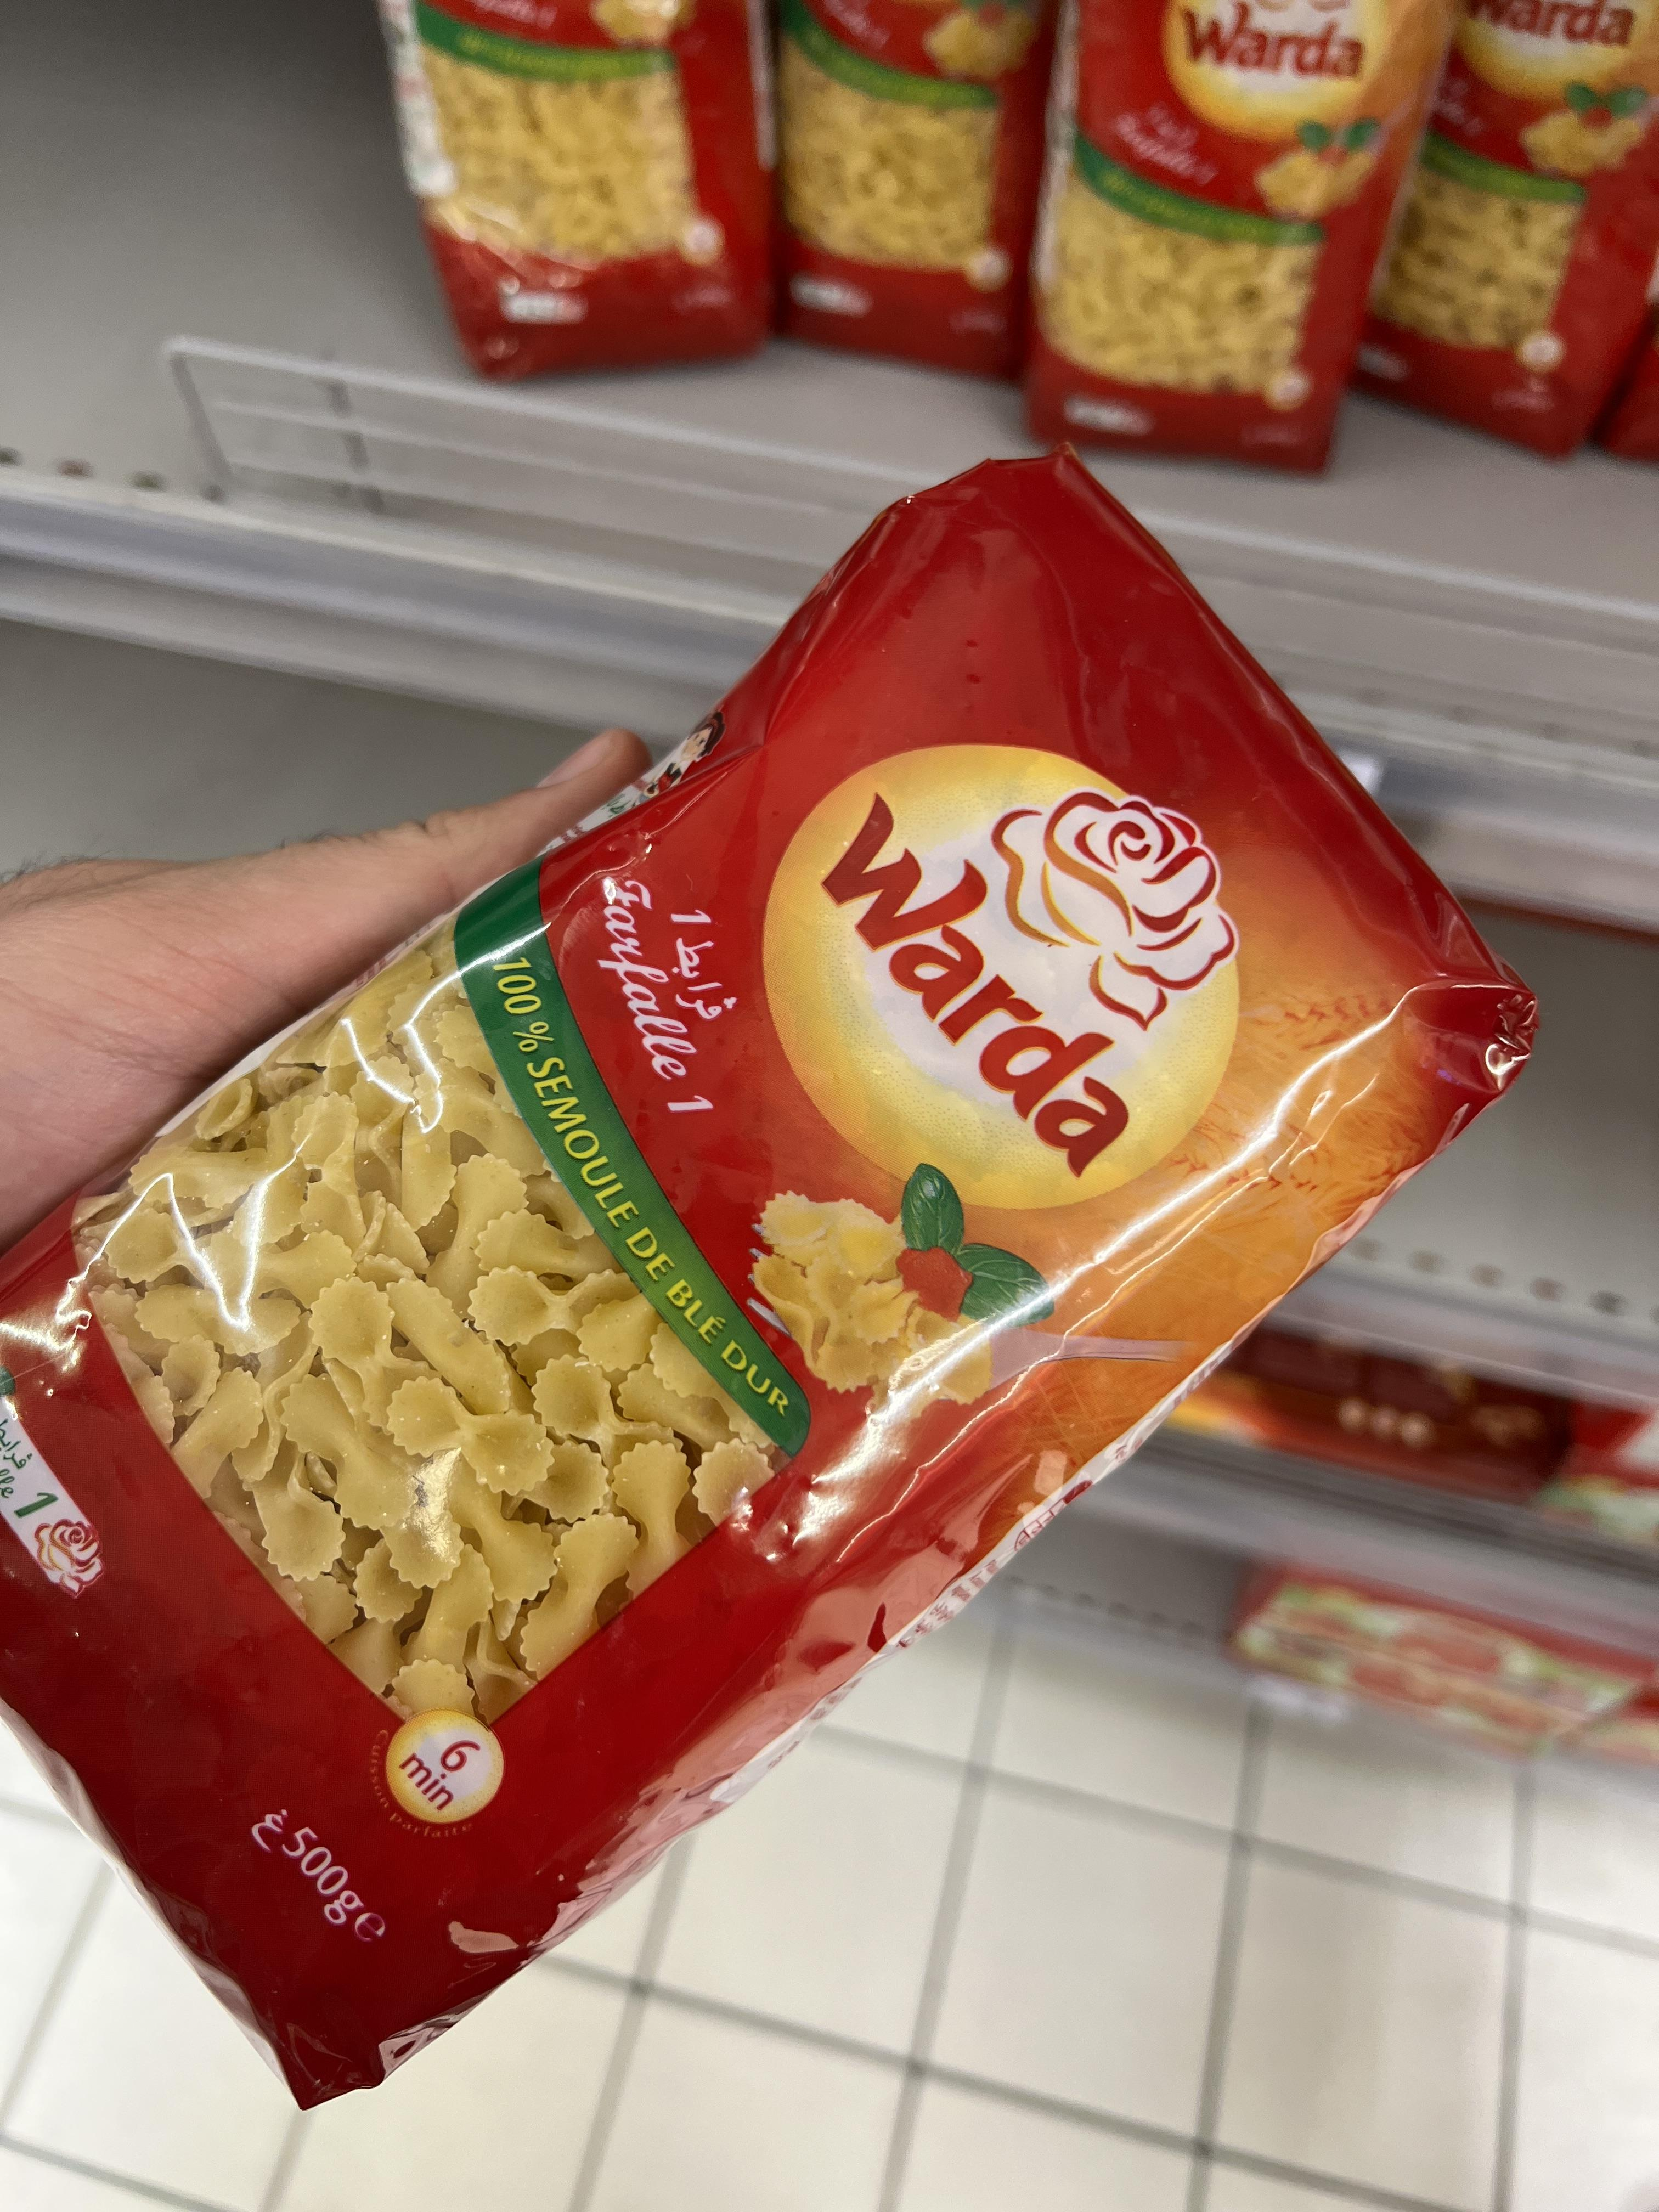Papillon: (0, 608, 1152, 2212)
